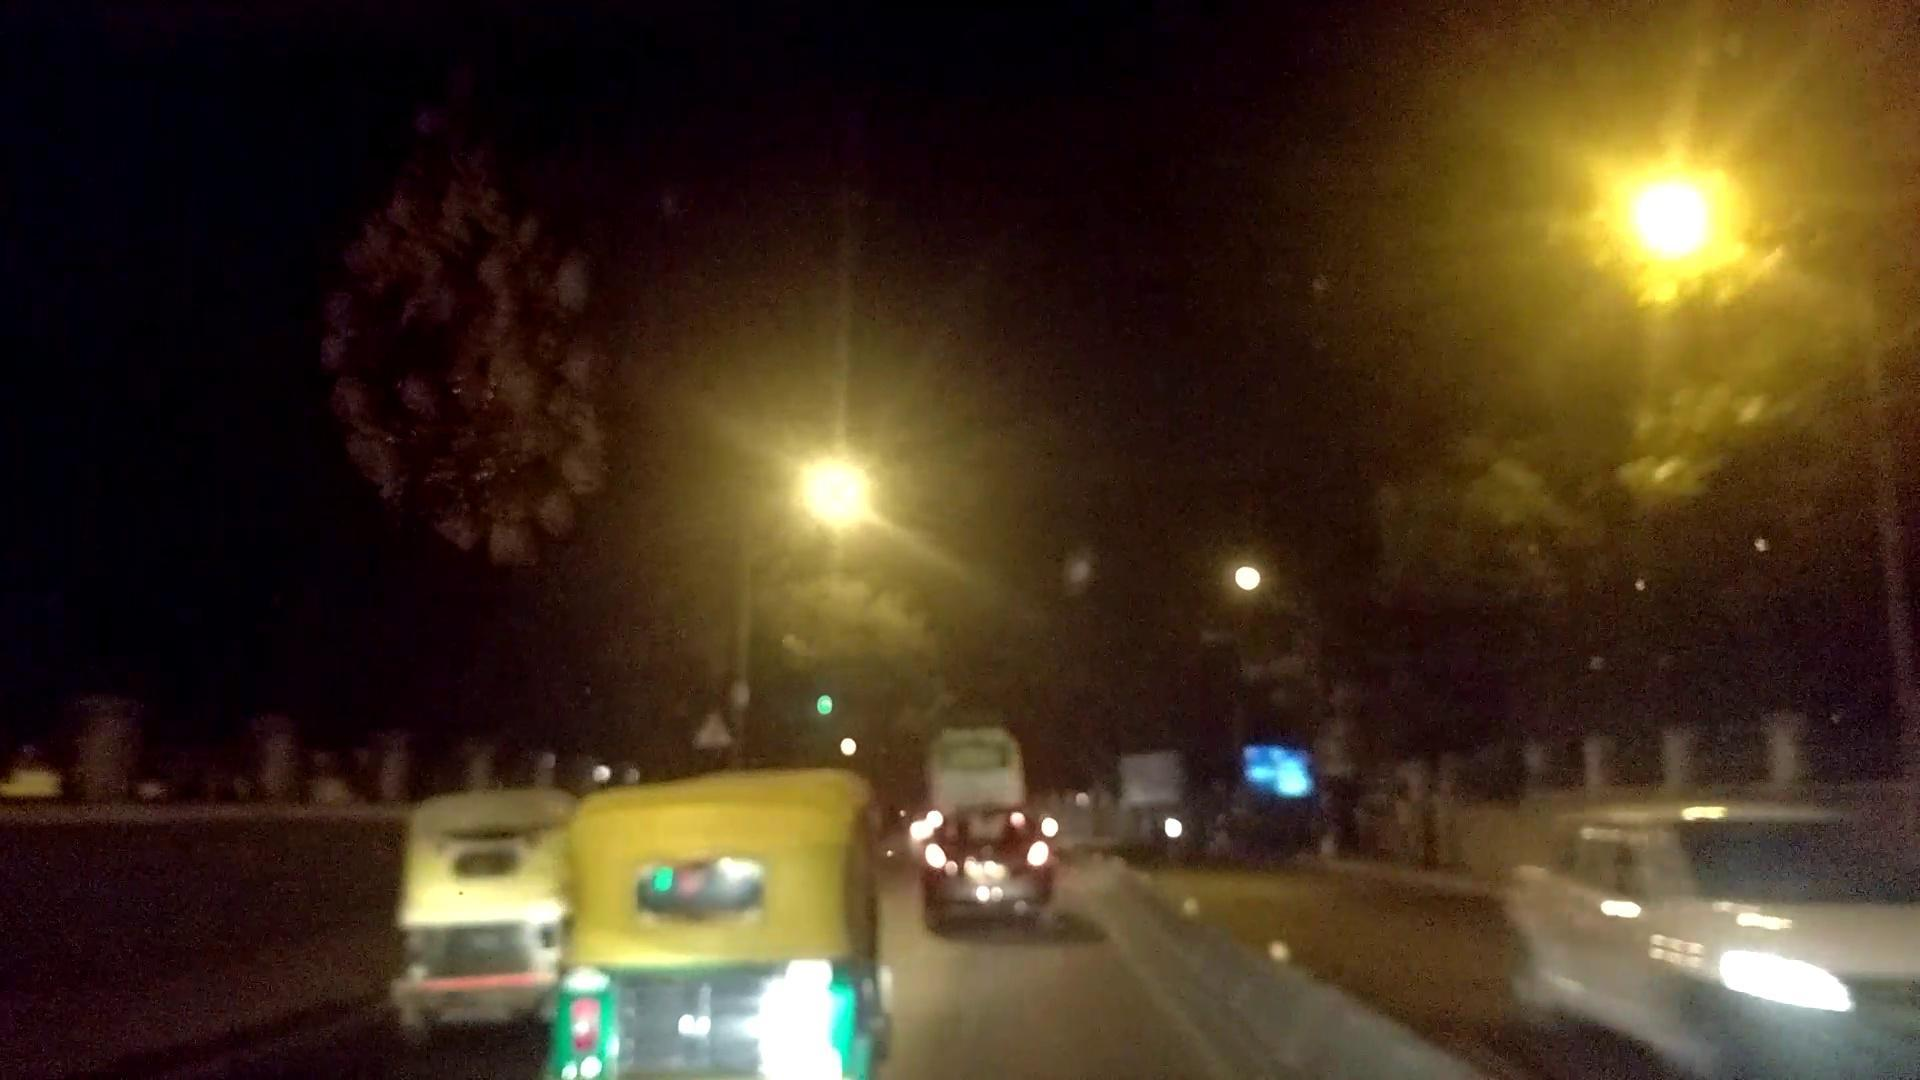on: (1510, 82, 1919, 404), (720, 313, 975, 644)
